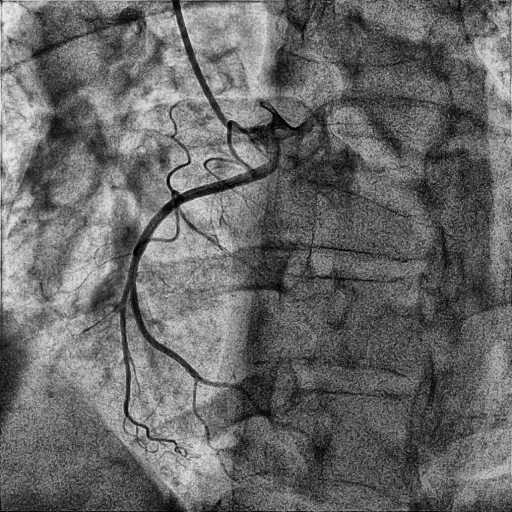rca: (127, 146, 281, 396)
